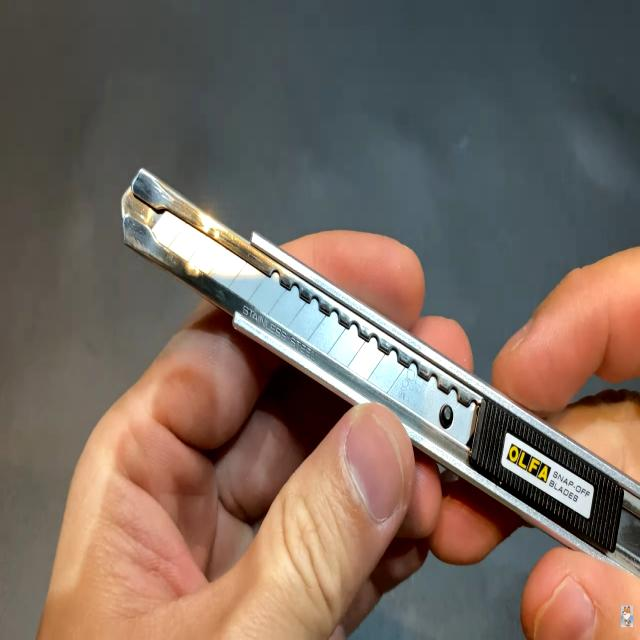cutter: (95, 97, 640, 606)
